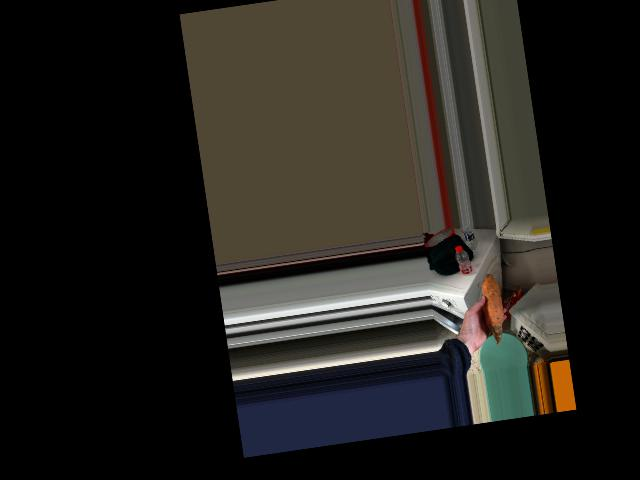sweet_potato: (481, 282, 503, 335)
